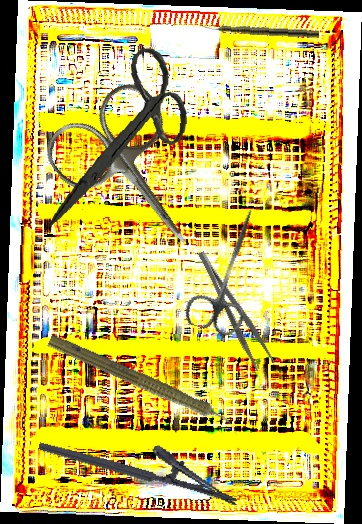Dressing Forceps: (195, 244, 276, 373)
Handpiece: (43, 330, 246, 439), (199, 22, 320, 39)
Iris Scissors: (37, 74, 232, 279), (48, 39, 194, 240), (181, 200, 276, 340)
Needle Holder: (37, 413, 246, 508)
